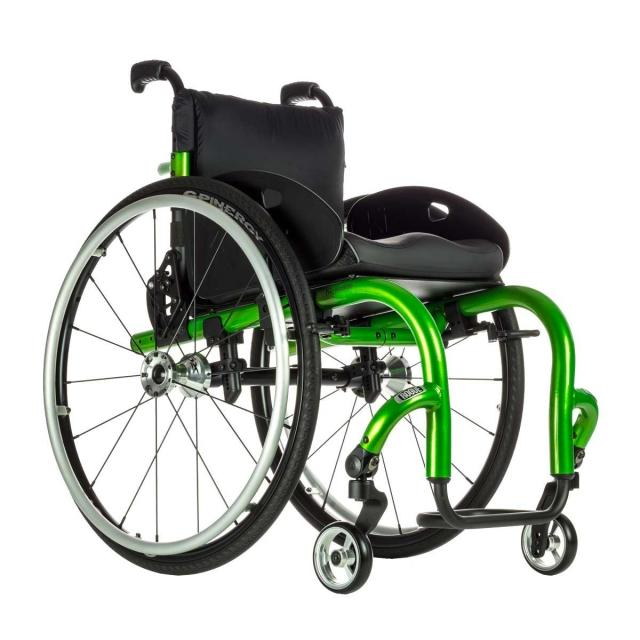wheelchair: (30, 46, 640, 607)
